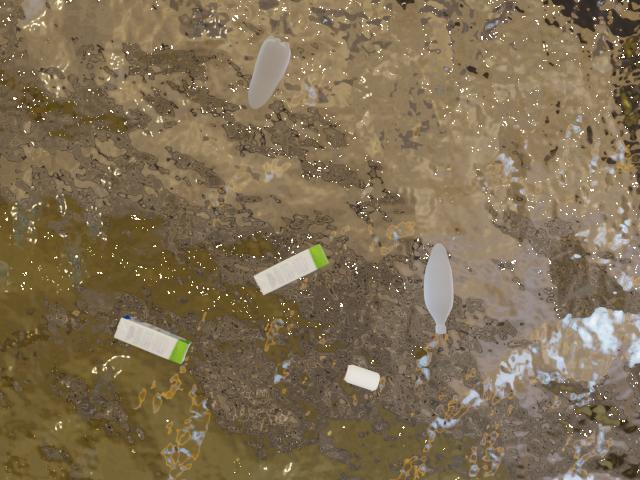Metal: (328, 355, 396, 400)
Plastic: (416, 233, 465, 343), (241, 34, 297, 130)
Trash: (110, 305, 198, 379), (250, 243, 335, 306)
